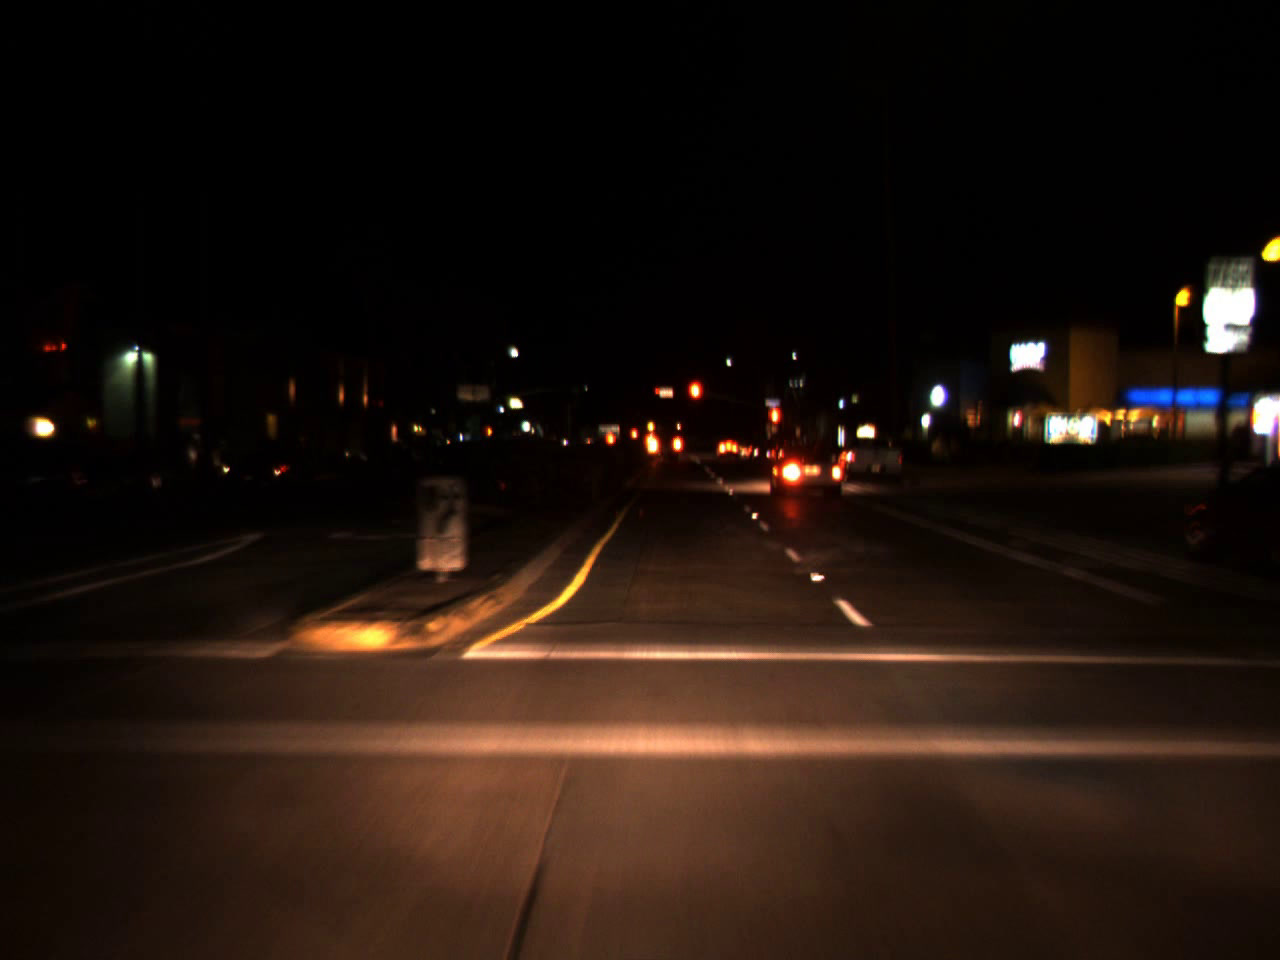stop: (685, 378, 703, 421), (770, 404, 782, 447), (655, 386, 661, 402)
